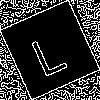L: (24, 25, 69, 78)
